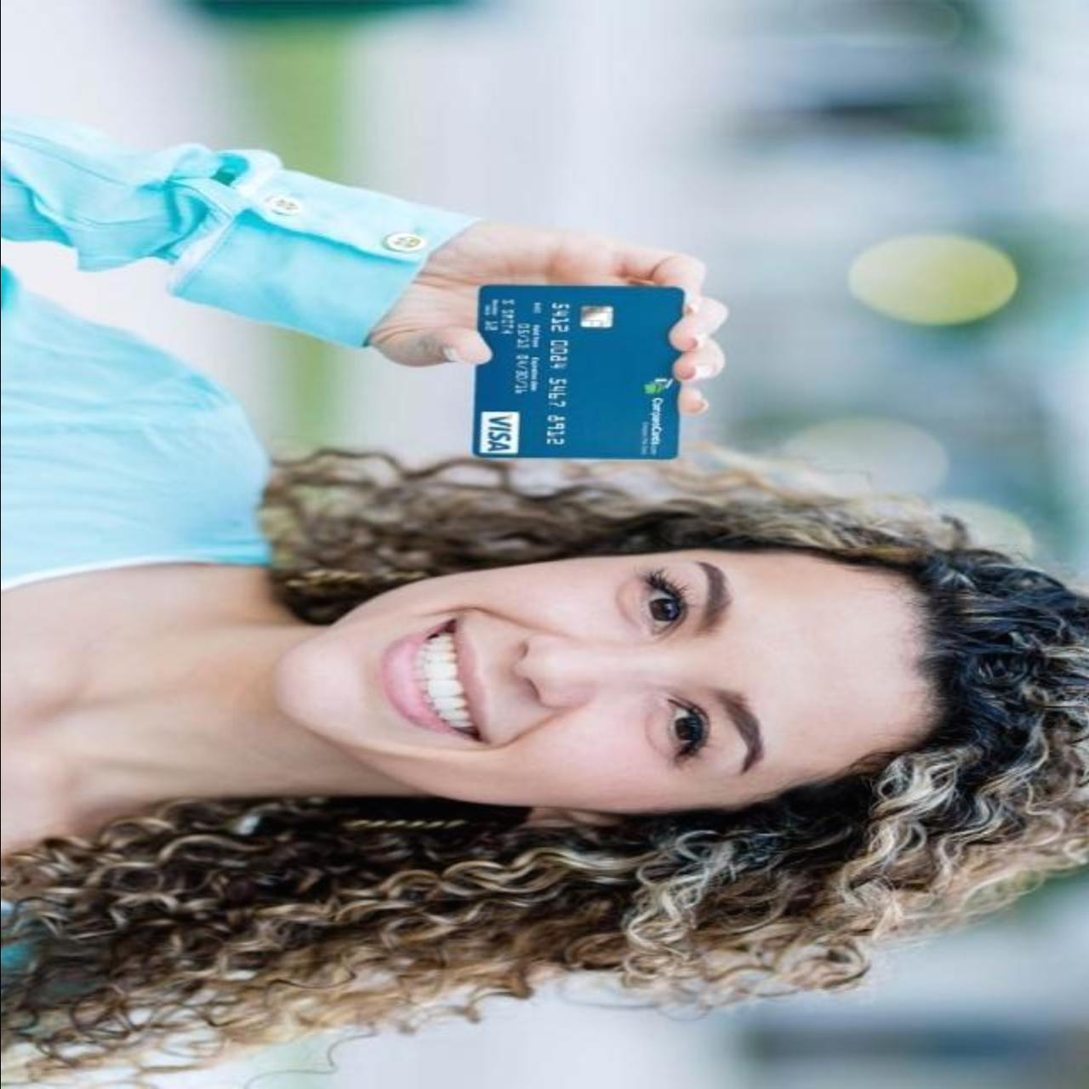credit_card: (470, 272, 691, 459)
